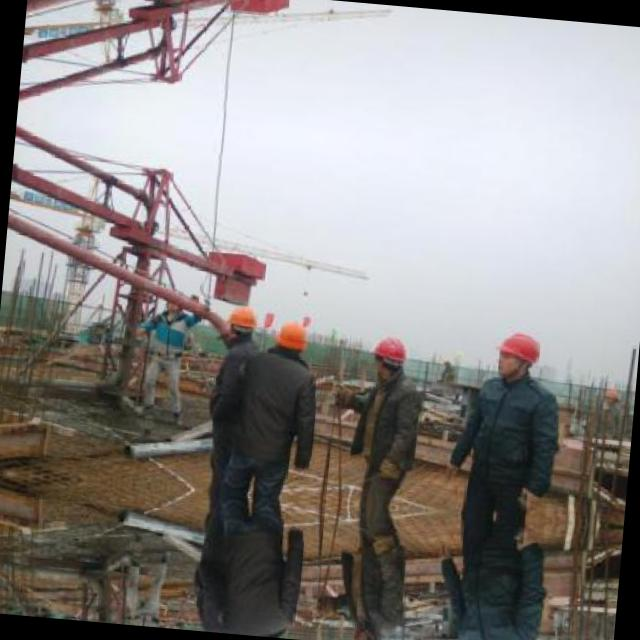helmet: (489, 325, 544, 380), (366, 329, 409, 381), (272, 313, 308, 356), (226, 301, 260, 341), (343, 626, 384, 640), (600, 383, 620, 406)
